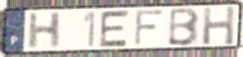1: (83, 10, 97, 49)
B: (166, 6, 201, 48)
E: (98, 9, 133, 49)
F: (133, 8, 166, 47)
H: (26, 10, 64, 51), (201, 5, 236, 47)
